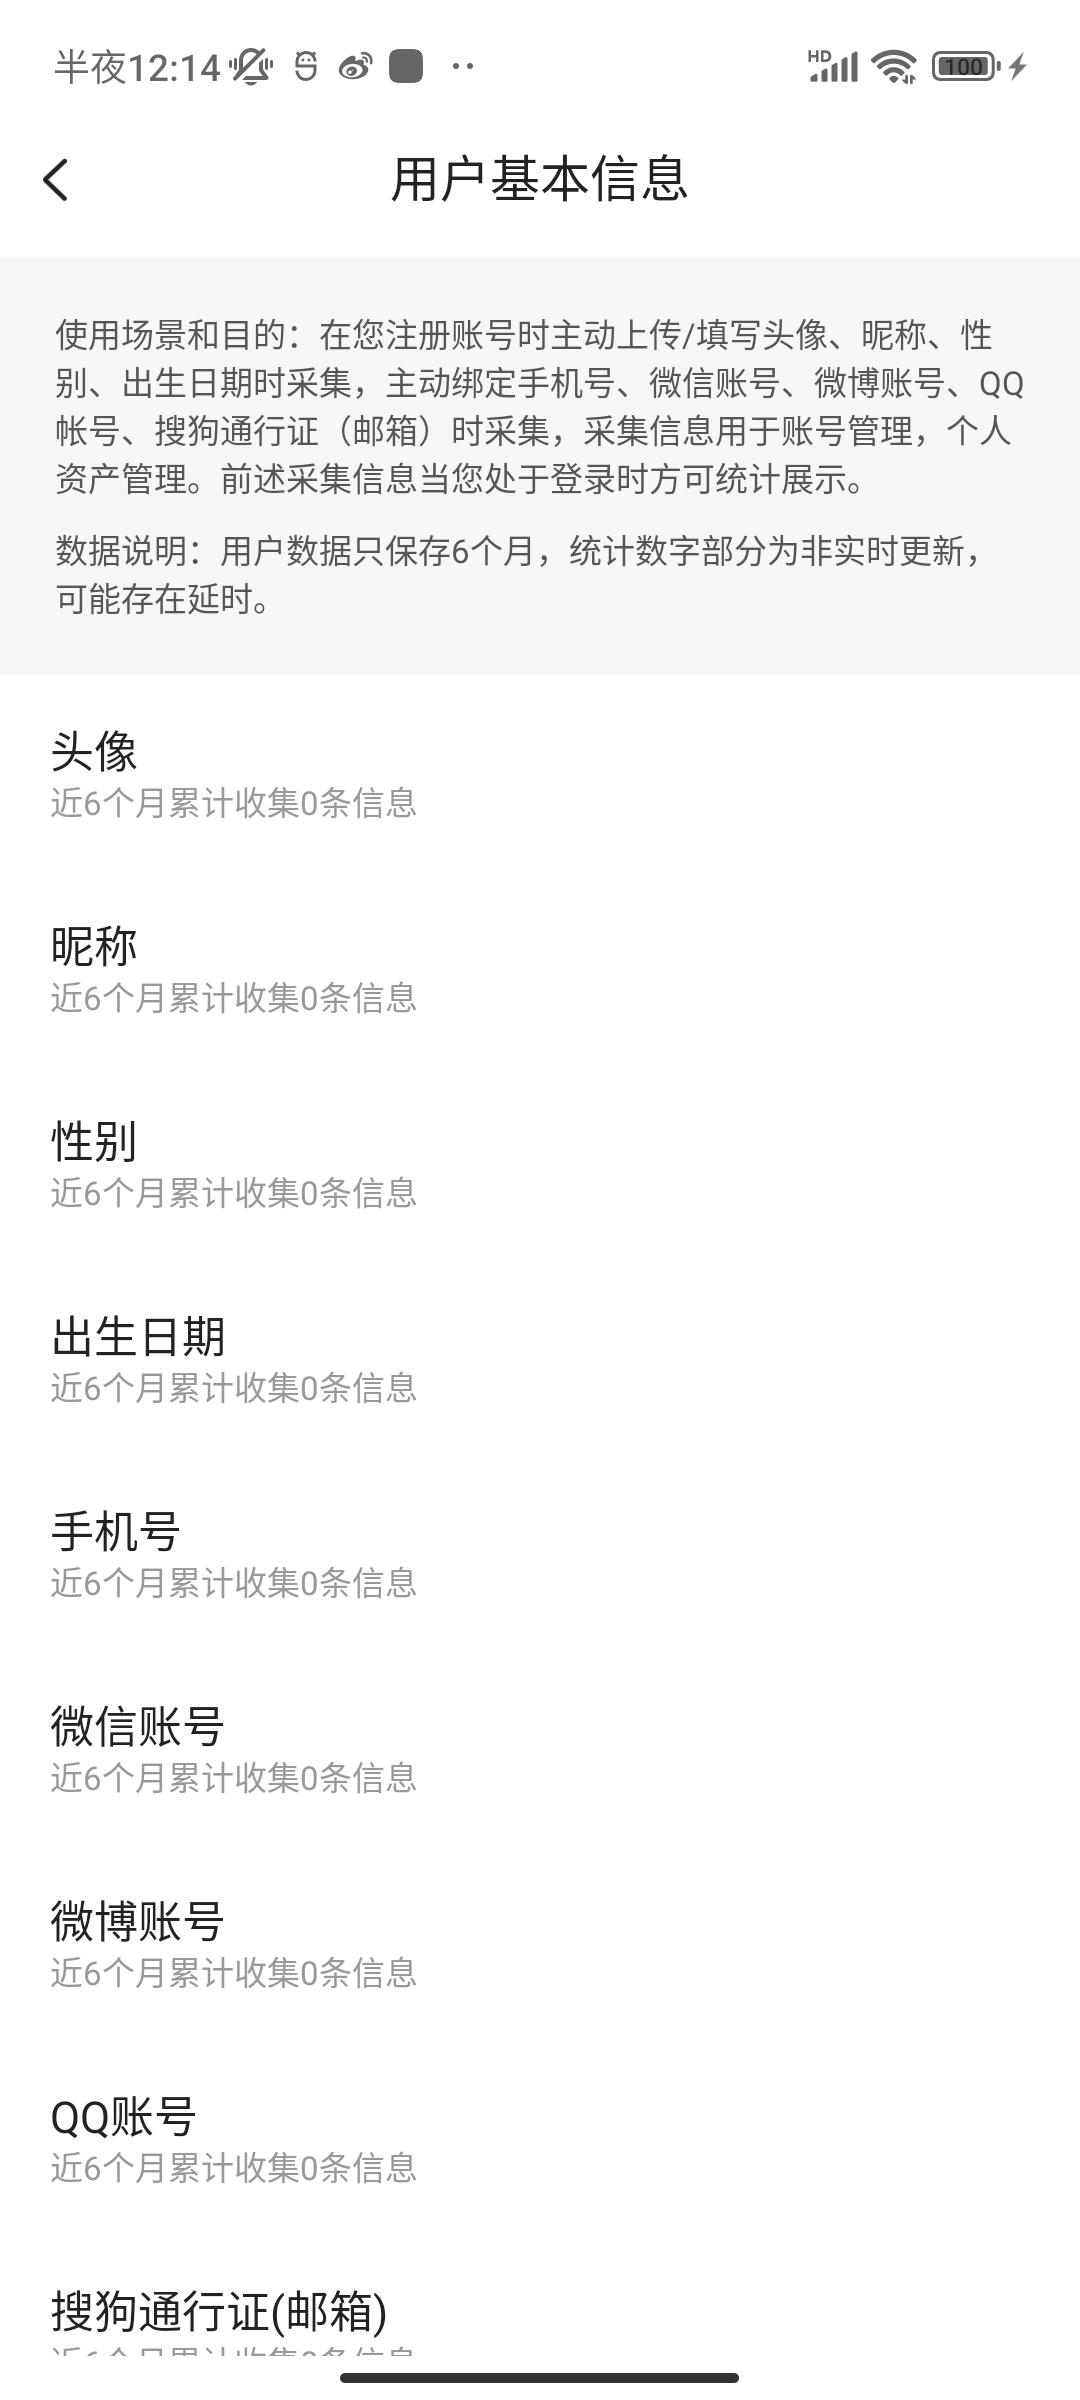ui_group: (24, 911, 1036, 1056), (23, 1107, 1036, 1240), (23, 713, 1043, 843)
